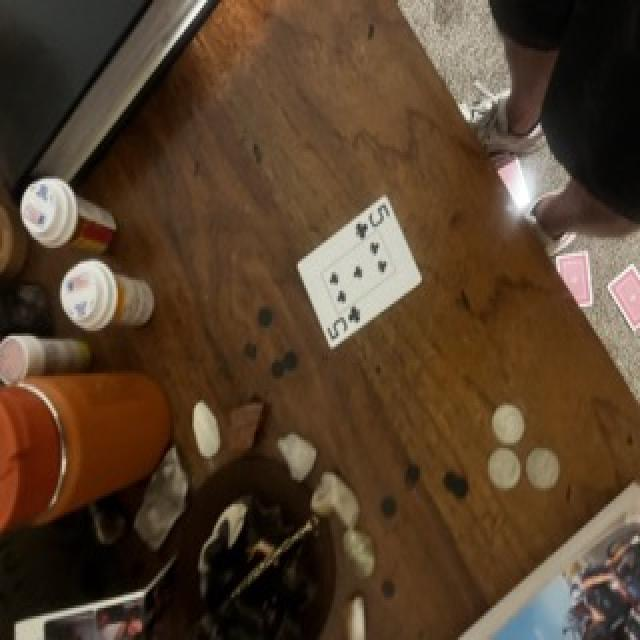5 of clubs: (298, 195, 421, 348)
